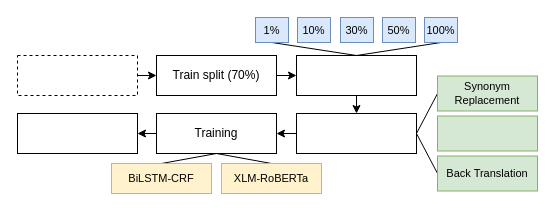
Some shapes in this 555 by 211 pixel diagram are drawn without their labels. Each missing label, with the centre of its shape:
Data Augmentation: point (356, 133)
Evaluation: point (77, 133)
German LER dataset: point (77, 75)
Mention Replacement: point (487, 133)
Take fraction: point (356, 75)
